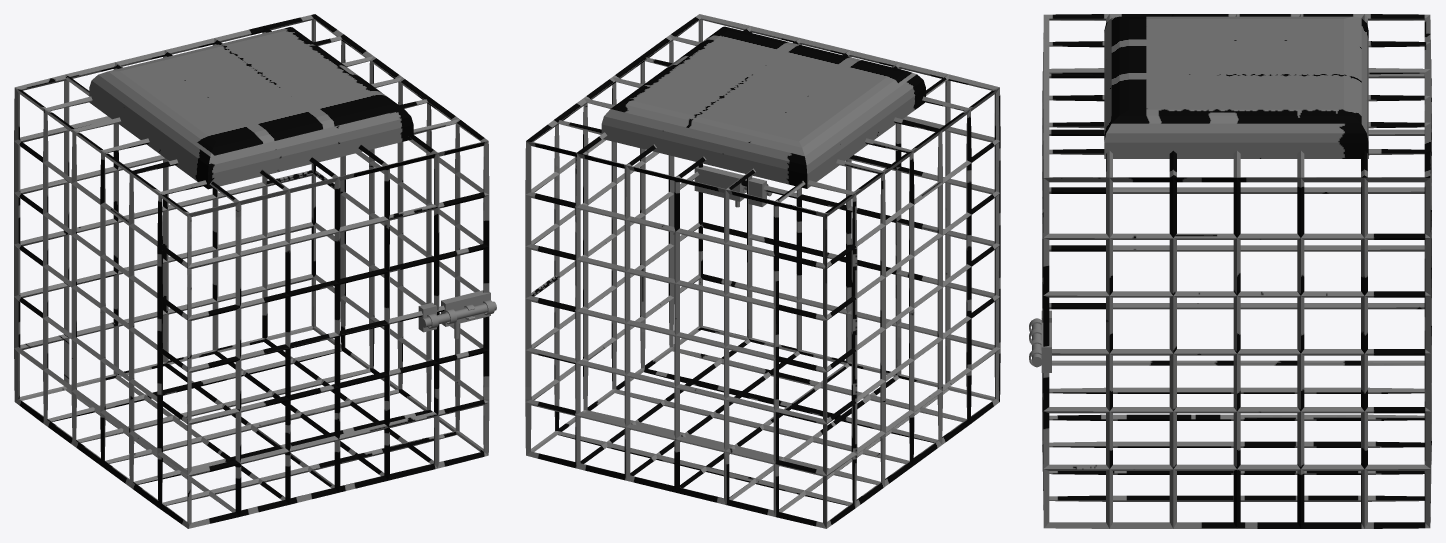
File: Jaula 1.fbx
3 views of the same model, side by side, from view 1: azimuth 30°, elevation 25°; view 2: azimuth 150°, elevation 25°; view 3: azimuth 270°, elevation 25° (orthographic). The views are drawn at different scales.
Parts seen in each view (by area): view 1: jaula, puerta; view 2: jaula, puerta; view 3: jaula, puerta.
Part boxes in pixels (left/top/right/bottom): jaula: left=14, top=14, right=489, bottom=528; puerta: left=263, top=220, right=496, bottom=425; jaula: left=525, top=14, right=1000, bottom=528; puerta: left=694, top=142, right=922, bottom=299; jaula: left=1042, top=14, right=1431, bottom=528; puerta: left=1029, top=239, right=1051, bottom=439.
Bounding box in the file's own units: 43.81 × 47.31 × 45.05.
